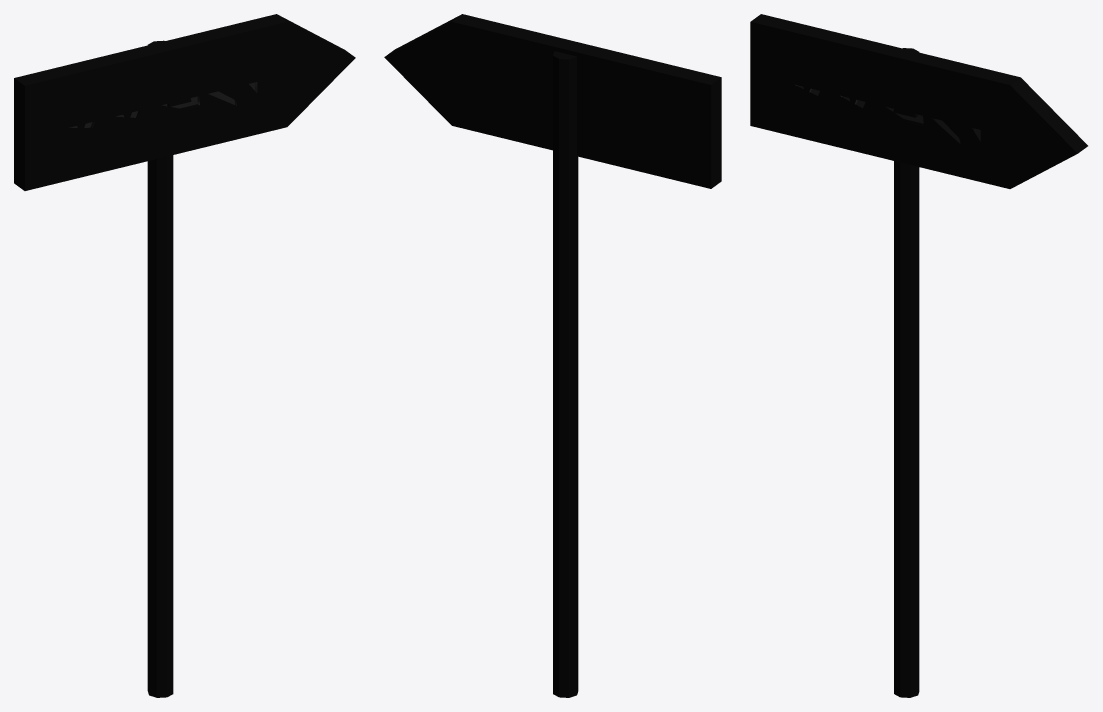
The model's file is West sign.fbx.
3 views of the same model, side by side, from view 1: azimuth 30°, elevation 25°; view 2: azimuth 150°, elevation 25°; view 3: azimuth 330°, elevation 25° (orthographic).
Visible parts, largest first — view 1: Cube.003; view 2: Cube.003; view 3: Cube.003.
Part boxes in pixels (x1,y1,x2,y2): Cube.003: (14,14,355,697); Cube.003: (384,14,721,697); Cube.003: (750,14,1087,697).
Size of the model in its own units: 115 by 215 by 10.68.
